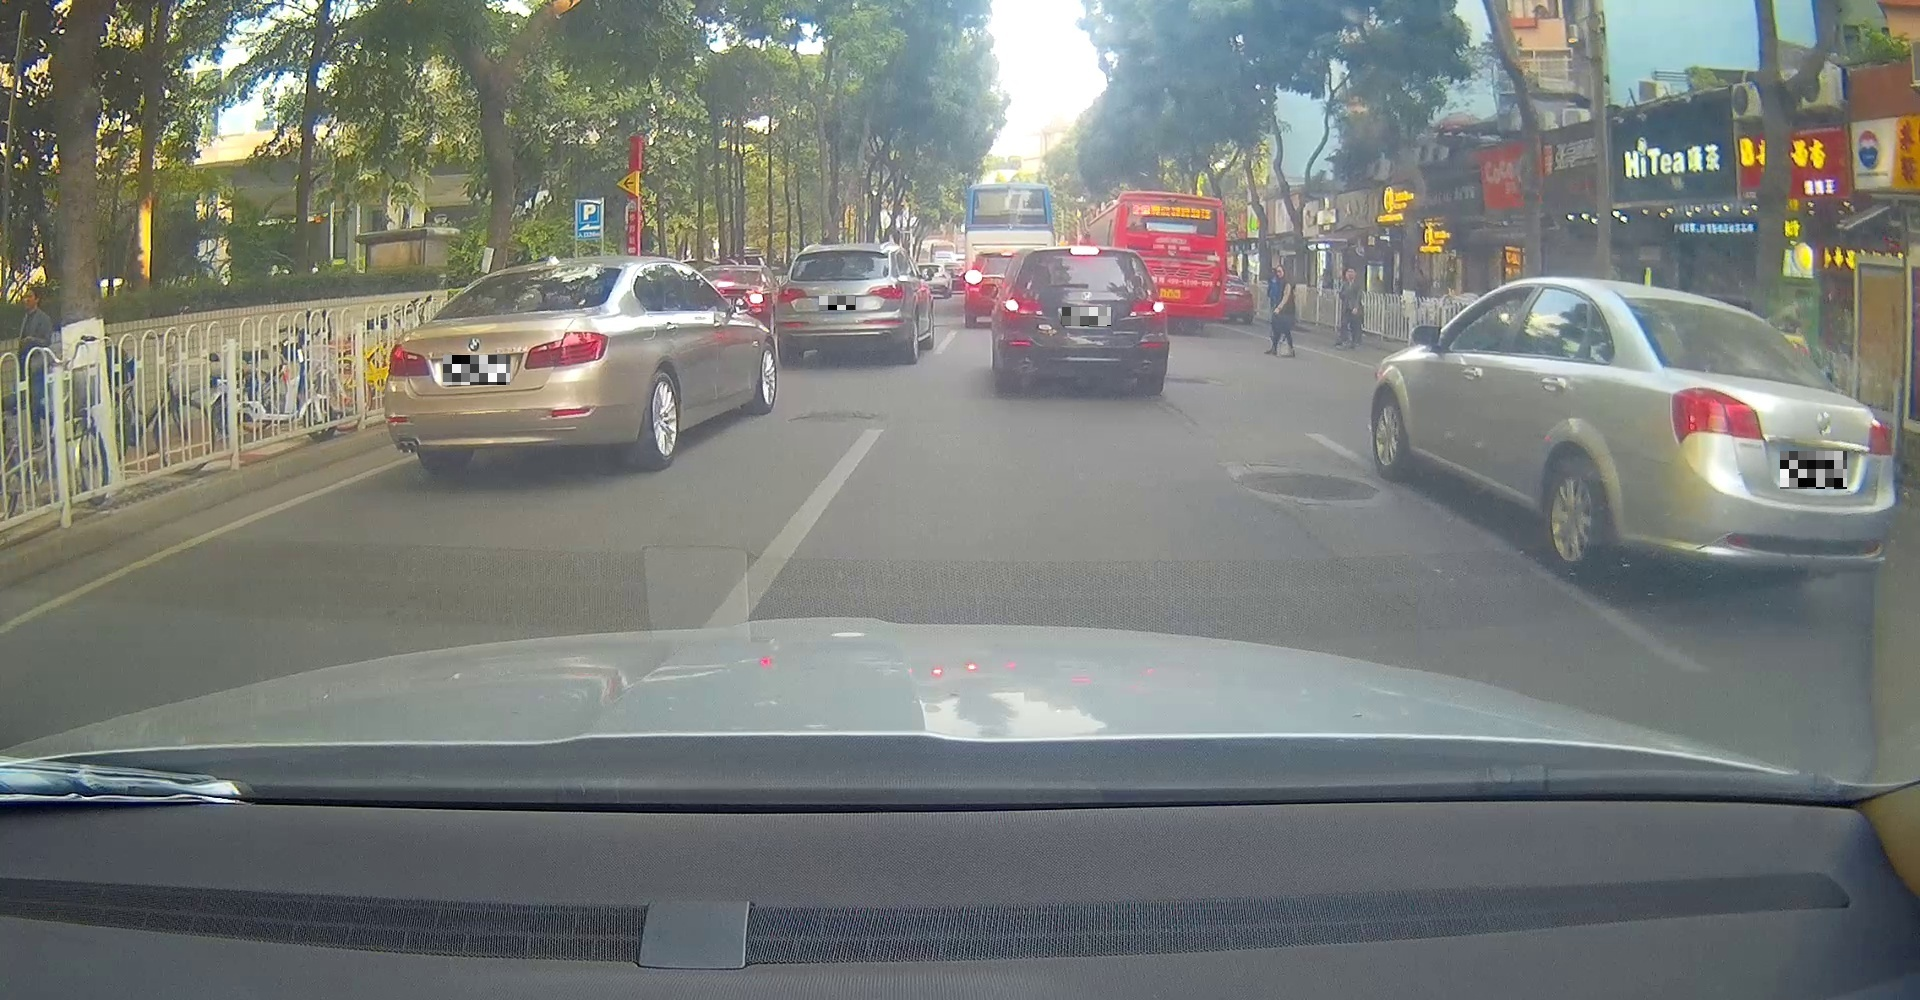L_light: (1670, 387, 1766, 445), (387, 344, 430, 378), (1003, 298, 1045, 315), (776, 287, 808, 305)
R_light: (522, 330, 611, 371), (1865, 418, 1893, 456), (1129, 299, 1166, 317), (867, 283, 904, 299)
T_light: (1069, 247, 1101, 256), (530, 266, 563, 274), (1768, 379, 1797, 386), (833, 247, 853, 253)
day-brake: (997, 247, 1170, 396)
day-no: (1617, 286, 1895, 590), (381, 258, 627, 475), (775, 244, 910, 363)
plate_1: (443, 355, 510, 385)
plate_2: (819, 296, 856, 310)
plate_3: (1062, 307, 1111, 326)
plate_4: (1780, 451, 1848, 489)
